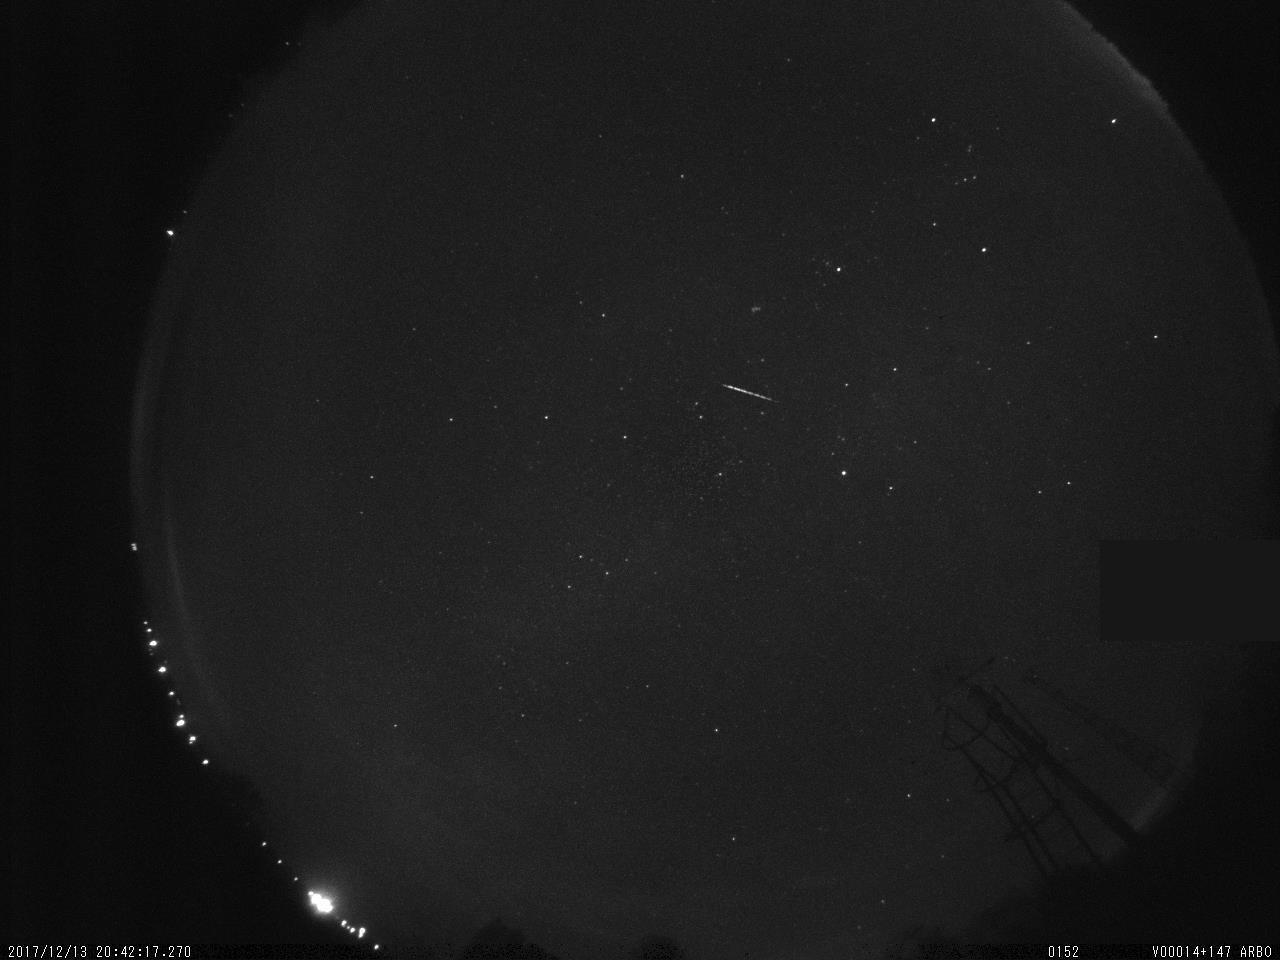meteor: (717, 376, 794, 412)
